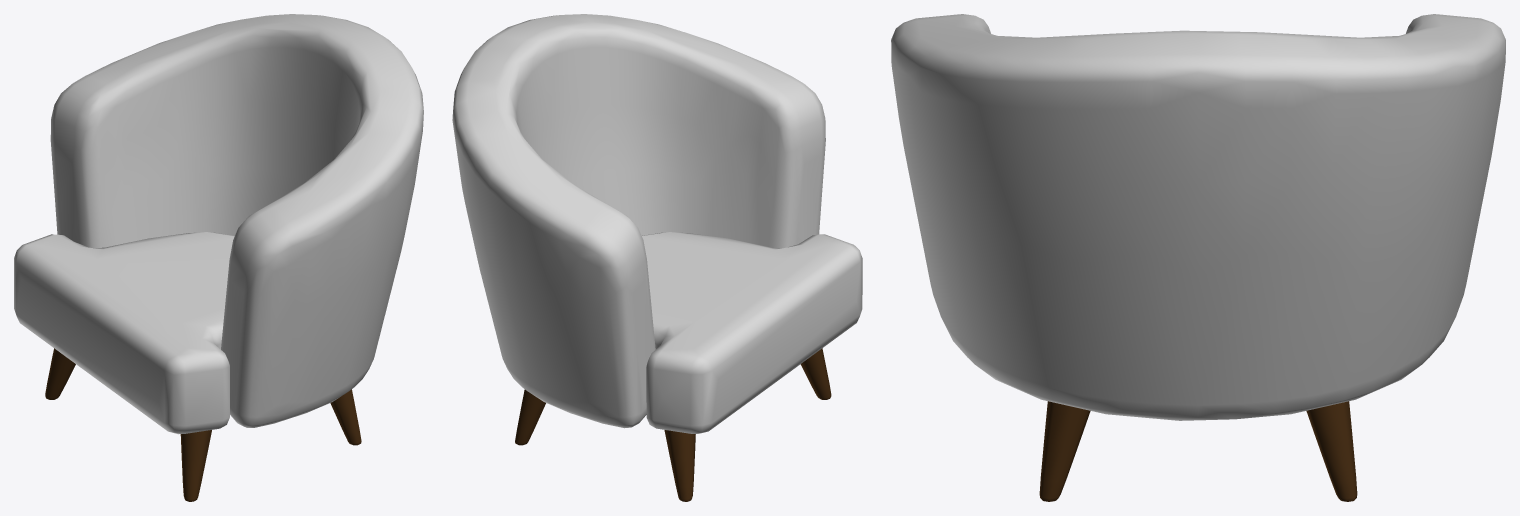
File: armchair_07_leather_white.fbx
The picture shows the model from 3 angles, left to right: view 1: azimuth 30°, elevation 25°; view 2: azimuth 150°, elevation 25°; view 3: azimuth 270°, elevation 25°; orthographic projection. The views are drawn at different scales.
Visible parts, largest first — view 1: armchair_07_leather_white; view 2: armchair_07_leather_white; view 3: armchair_07_leather_white.
Part boxes in pixels (x1=…): armchair_07_leather_white: x1=14, y1=14, x2=423, y2=501; armchair_07_leather_white: x1=452, y1=14, x2=862, y2=501; armchair_07_leather_white: x1=891, y1=14, x2=1505, y2=501.
Bounding box in the file's own units: 102 × 114 × 128.
Materials: 1 (1 with a texture image).
